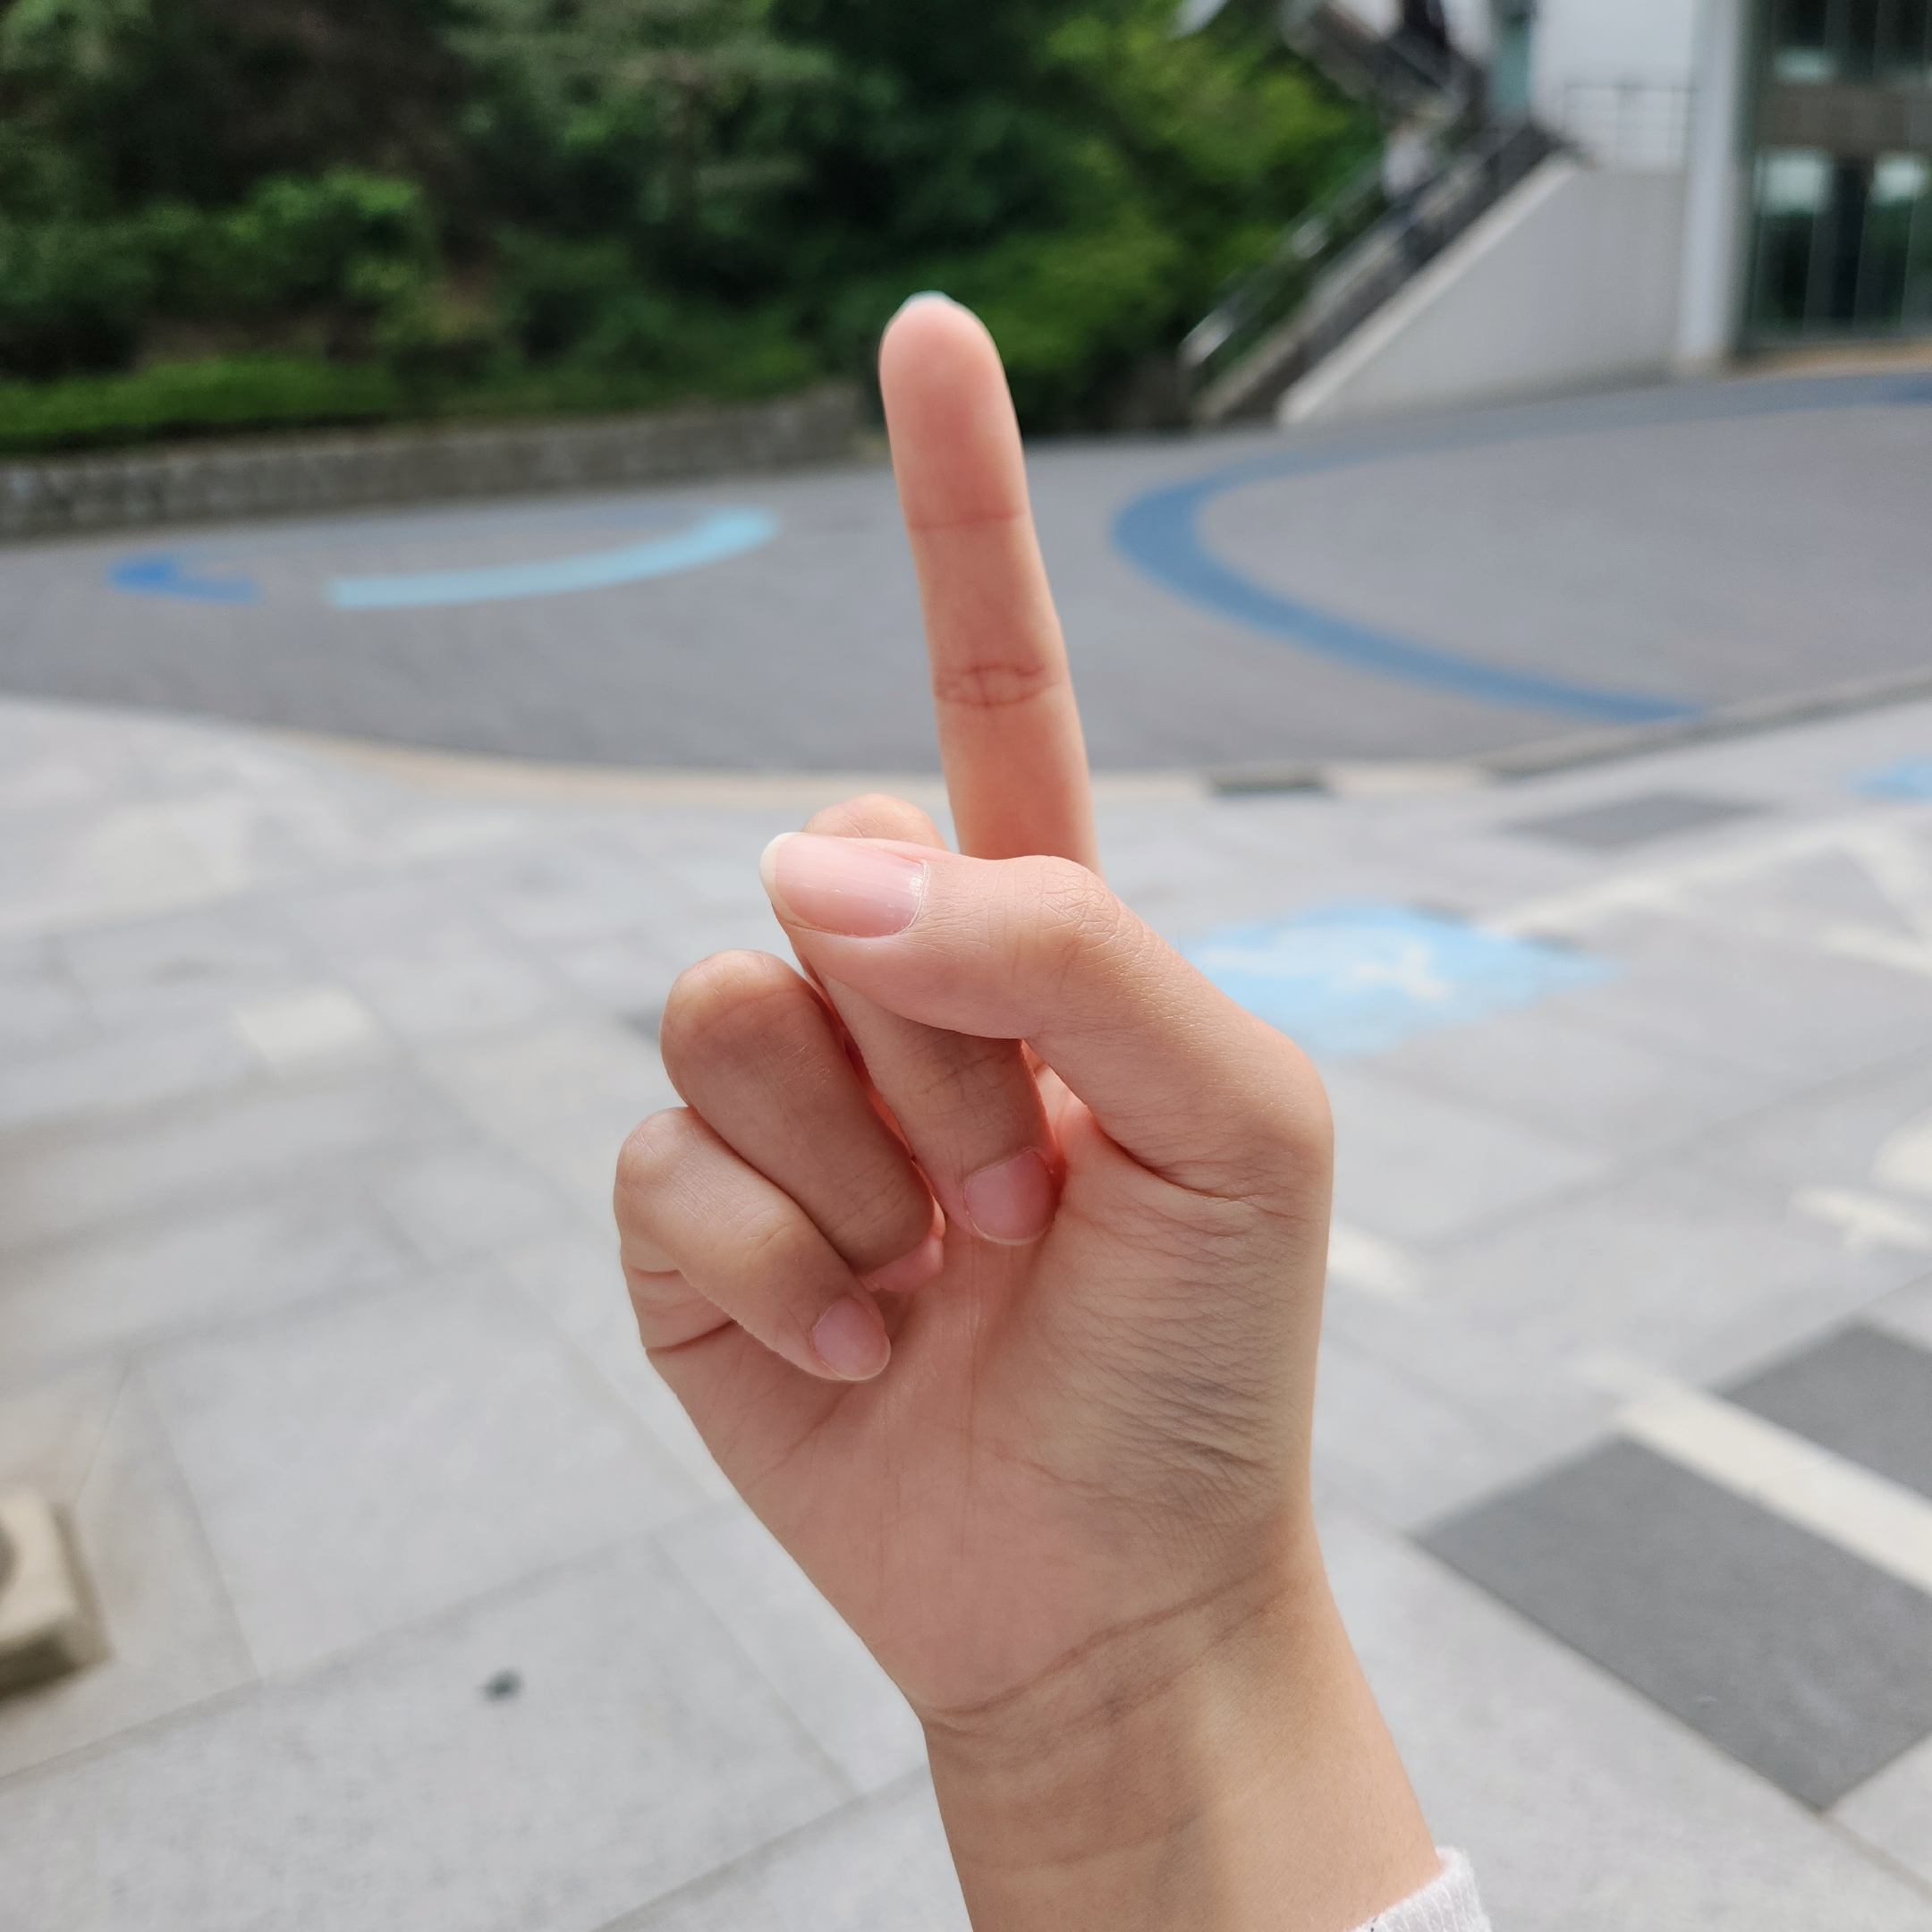what: (610, 287, 1339, 1691)
